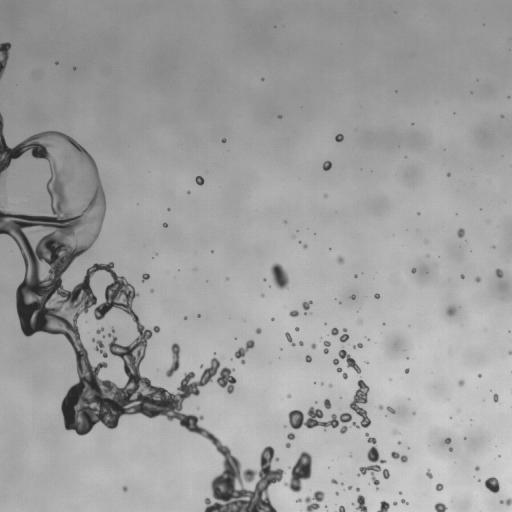droplet: (357, 433, 389, 489), (296, 490, 324, 511), (270, 263, 289, 289), (234, 340, 254, 364), (484, 477, 499, 493), (354, 494, 367, 511), (339, 328, 349, 342), (302, 300, 312, 312), (377, 501, 389, 511), (434, 502, 447, 511), (323, 341, 330, 353), (324, 398, 331, 409), (500, 498, 511, 505), (323, 161, 331, 170), (195, 176, 203, 185), (457, 228, 465, 237), (446, 307, 455, 315), (335, 134, 343, 142), (495, 269, 503, 277), (435, 483, 443, 491), (289, 310, 298, 317), (335, 505, 345, 511), (142, 273, 149, 281), (387, 406, 395, 413), (426, 469, 432, 478), (331, 328, 338, 335), (287, 433, 294, 440), (444, 437, 451, 444), (337, 256, 343, 264), (96, 327, 103, 333), (305, 355, 311, 362), (493, 394, 498, 402), (458, 380, 464, 386), (333, 358, 338, 365), (401, 499, 408, 504), (475, 277, 481, 282), (355, 343, 362, 347), (411, 268, 416, 273), (374, 293, 379, 298), (256, 328, 261, 333), (311, 343, 316, 348), (285, 442, 290, 447), (122, 486, 127, 491), (331, 479, 337, 483), (350, 295, 355, 299), (298, 341, 303, 345), (405, 368, 409, 373), (222, 138, 226, 142), (163, 223, 167, 227), (303, 244, 307, 248), (460, 274, 464, 278), (295, 327, 299, 331), (379, 405, 383, 409), (475, 466, 479, 470), (393, 501, 397, 505), (393, 430, 397, 433), (348, 486, 352, 489), (278, 115, 281, 118), (447, 173, 450, 176), (358, 320, 361, 323), (478, 374, 481, 377), (288, 394, 291, 397), (449, 448, 452, 451), (509, 350, 511, 354), (187, 191, 190, 193), (354, 275, 357, 277), (271, 318, 273, 321), (200, 365, 203, 367), (329, 384, 331, 387), (398, 441, 400, 444), (356, 488, 359, 490), (399, 491, 401, 494), (335, 492, 338, 494), (261, 78, 263, 80), (263, 279, 265, 281), (103, 335, 105, 337)
ligament: (0, 113, 285, 511), (289, 379, 370, 433), (284, 451, 312, 492), (338, 349, 360, 373), (166, 343, 180, 377), (0, 42, 10, 78), (92, 339, 107, 357), (390, 451, 407, 462), (285, 332, 295, 346), (337, 367, 347, 379)
